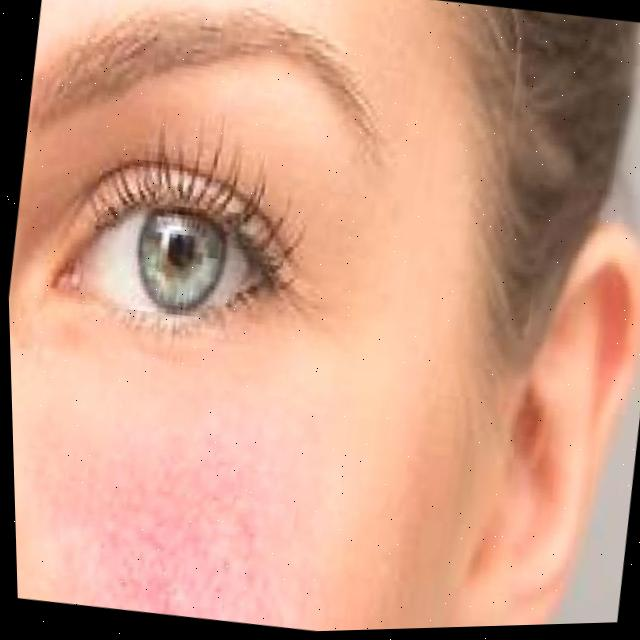Rosacea: (109, 439, 285, 612)
